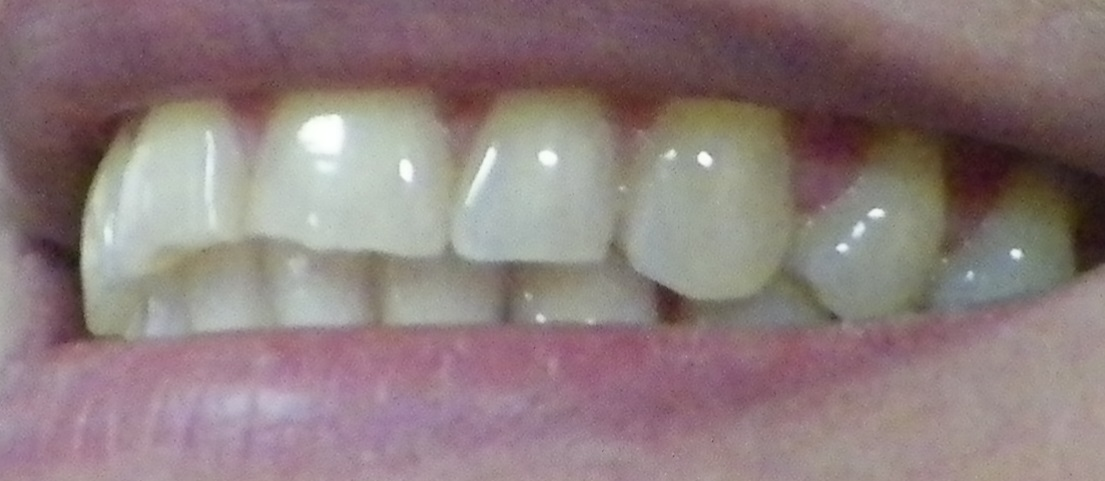boca: (67, 80, 1054, 324)
